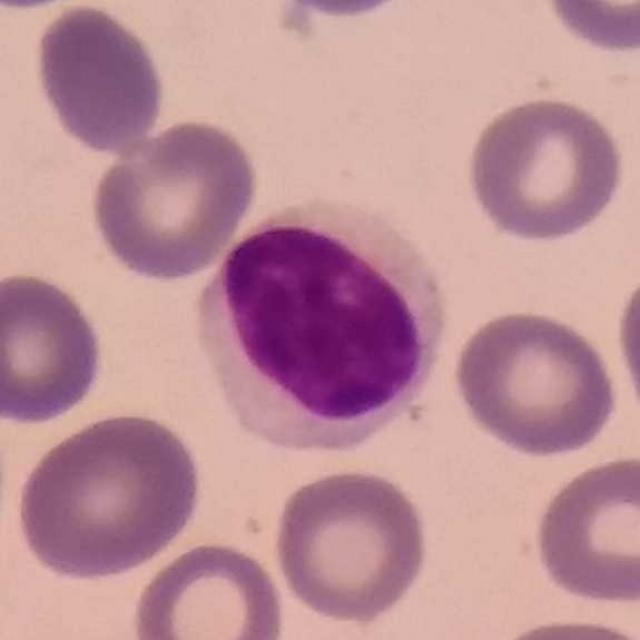Lymphocyte: (199, 188, 453, 456)
RBC: (11, 406, 207, 583), (87, 114, 261, 284), (268, 463, 433, 626), (449, 305, 621, 461), (462, 91, 628, 246), (29, 0, 170, 157), (0, 267, 109, 428), (530, 451, 640, 609), (128, 537, 289, 639), (538, 0, 640, 57), (611, 256, 640, 439), (478, 613, 640, 639), (264, 0, 426, 22)
